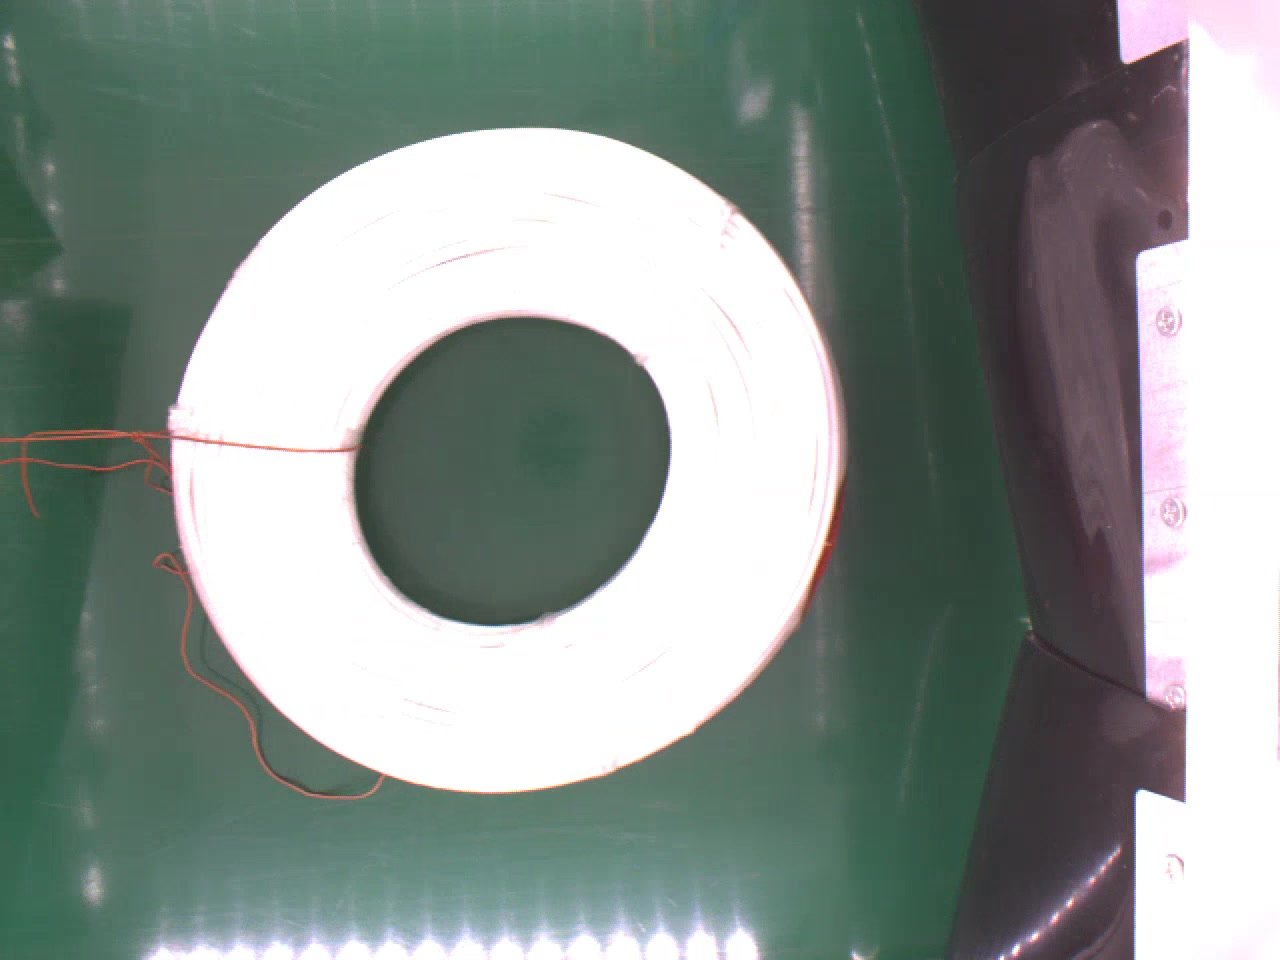white: (159, 127, 841, 792)
